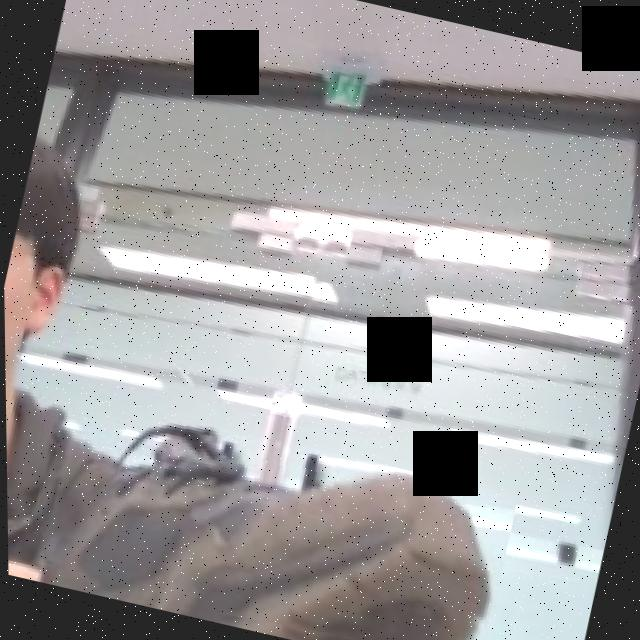shoe: (38, 395, 517, 640)
